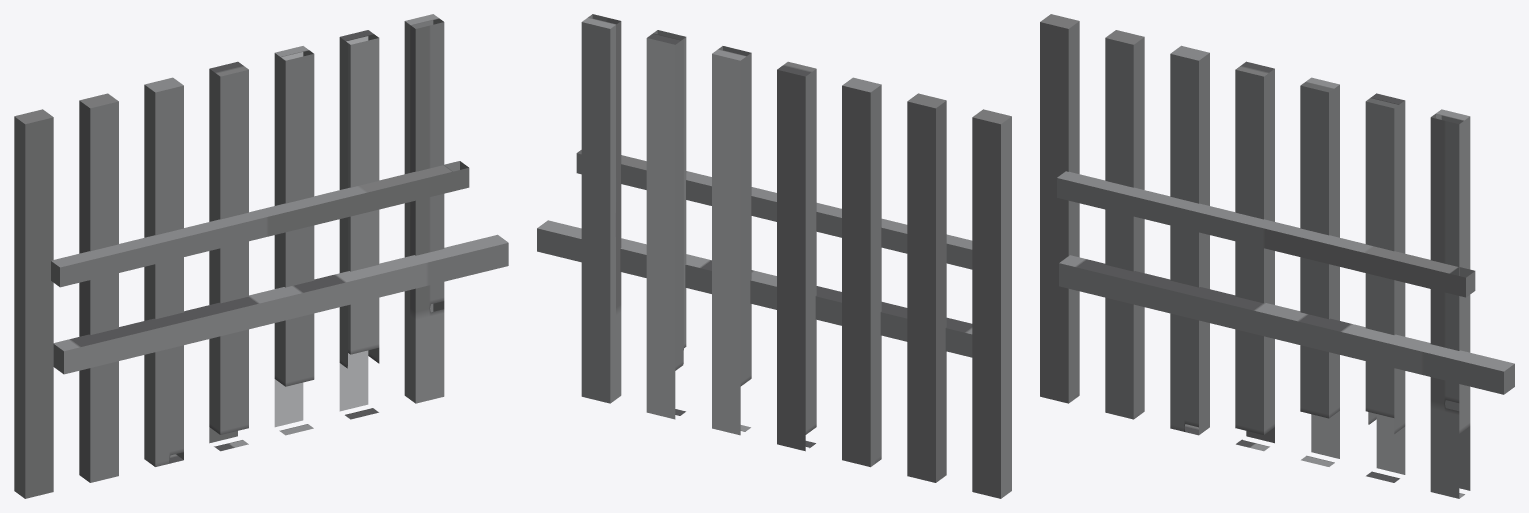
The picture shows the model from 3 angles, left to right: view 1: azimuth 30°, elevation 25°; view 2: azimuth 150°, elevation 25°; view 3: azimuth 330°, elevation 25°; orthographic projection.
Size of the model in its own units: 0.6812 by 0.5148 by 0.0519.
